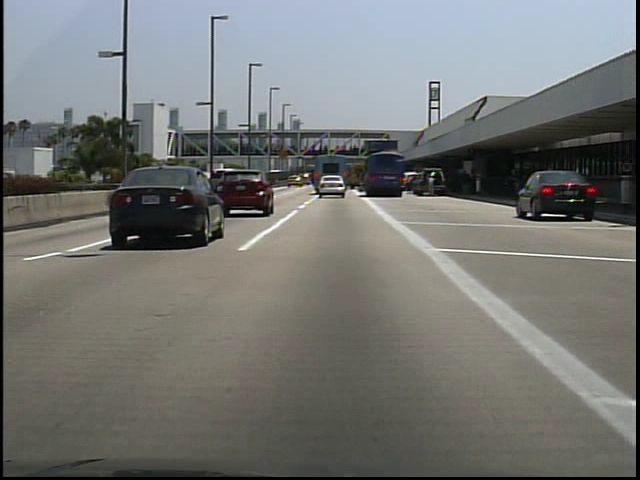person: (456, 165, 472, 200), (426, 173, 439, 199)
